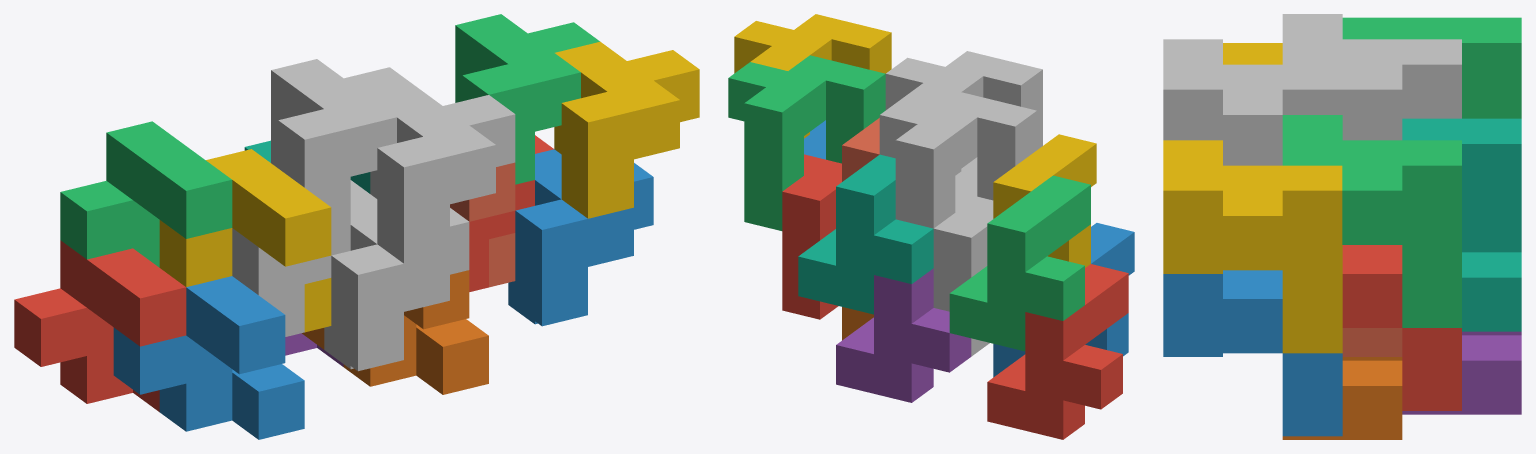
The model's file is tiling.obj.
3 renders of one model, left to right at view 1: azimuth 30°, elevation 25°; view 2: azimuth 150°, elevation 25°; view 3: azimuth 270°, elevation 25°, orthographic. The views are drawn at different scales.
Parts seen in each view (by area): view 1: copy_1_domain_2, copy_2_domain_8, copy_2_domain_4, copy_1_domain_1, copy_1_domain_3, copy_2_domain_3, copy_1_domain_4, copy_2_domain_2, copy_2_domain_6, copy_2_domain_7, copy_1_domain_6, copy_2_domain_1 (+2 smaller); view 2: copy_2_domain_7, copy_1_domain_3, copy_1_domain_1, copy_2_domain_3, copy_1_domain_7, copy_1_domain_5, copy_2_domain_4, copy_2_domain_8, copy_2_domain_5, copy_1_domain_4, copy_2_domain_1, copy_1_domain_2 (+4 smaller); view 3: copy_2_domain_8, copy_2_domain_7, copy_2_domain_4, copy_2_domain_6, copy_1_domain_7, copy_2_domain_3, copy_2_domain_5, copy_1_domain_3, copy_1_domain_6, copy_1_domain_5, copy_1_domain_8, copy_1_domain_4.
Part boxes in pixels (<box>): copy_1_domain_2: <box>113,276,304,439</box>; copy_2_domain_8: <box>554,41,699,218</box>; copy_2_domain_4: <box>370,86,515,263</box>; copy_1_domain_1: <box>14,240,186,411</box>; copy_1_domain_3: <box>60,121,232,267</box>; copy_2_domain_3: <box>271,59,415,229</box>; copy_1_domain_4: <box>159,149,331,332</box>; copy_2_domain_2: <box>324,194,469,371</box>; copy_2_domain_6: <box>508,149,653,326</box>; copy_2_domain_7: <box>455,14,599,184</box>; copy_1_domain_6: <box>302,270,488,394</box>; copy_2_domain_1: <box>232,180,369,336</box>; copy_2_domain_7: <box>728,55,885,230</box>; copy_1_domain_3: <box>949,175,1090,351</box>; copy_1_domain_1: <box>987,264,1128,439</box>; copy_2_domain_3: <box>879,92,1036,228</box>; copy_1_domain_7: <box>798,154,933,314</box>; copy_1_domain_5: <box>836,268,971,402</box>; copy_2_domain_4: <box>885,51,1042,175</box>; copy_2_domain_8: <box>734,14,891,138</box>; copy_2_domain_5: <box>782,154,841,319</box>; copy_1_domain_4: <box>993,134,1096,267</box>; copy_2_domain_1: <box>933,191,993,356</box>; copy_1_domain_2: <box>993,223,1134,377</box>; copy_2_domain_8: <box>1163,140,1342,353</box>; copy_2_domain_7: <box>1282,115,1461,327</box>; copy_2_domain_4: <box>1163,39,1342,165</box>; copy_2_domain_6: <box>1163,270,1342,436</box>; copy_1_domain_7: <box>1402,118,1521,331</box>; copy_2_domain_3: <box>1282,14,1461,140</box>; copy_2_domain_5: <box>1342,245,1461,410</box>; copy_1_domain_3: <box>1342,17,1521,118</box>; copy_1_domain_6: <box>1282,357,1402,439</box>; copy_1_domain_5: <box>1402,331,1521,414</box>; copy_1_domain_8: <box>1342,328,1402,356</box>; copy_1_domain_4: <box>1223,43,1282,64</box>.
Bounding box in the file's own units: 12 × 6 × 6.
